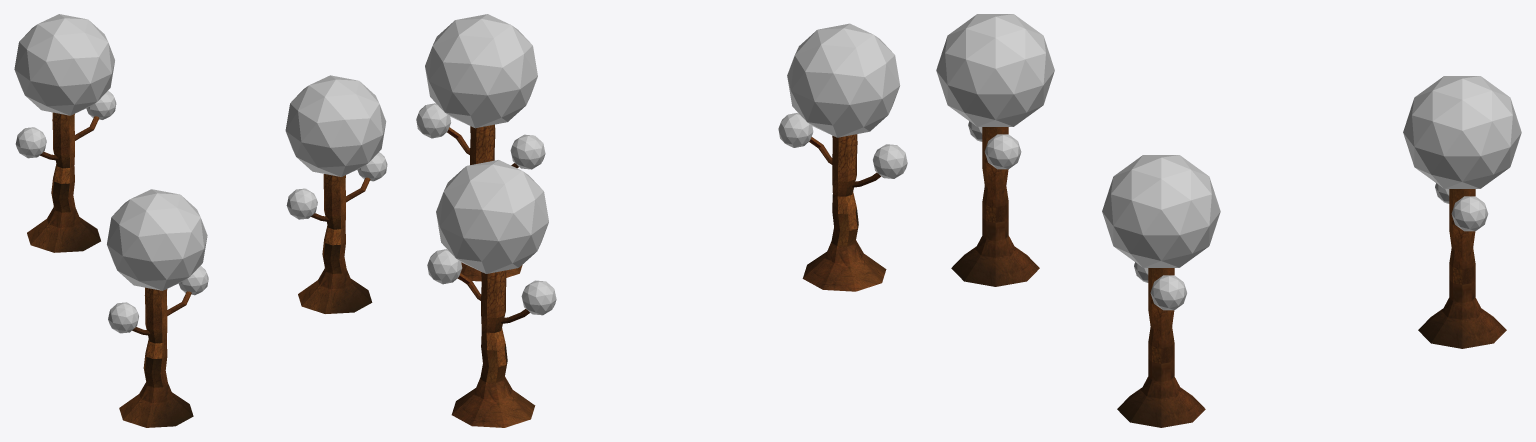
Rendered from Arbol.fbx.
3 renders of one model, left to right at view 1: azimuth 30°, elevation 25°; view 2: azimuth 150°, elevation 25°; view 3: azimuth 270°, elevation 25°, orthographic. The views are drawn at different scales.
Visible parts, largest first — view 1: Tree, Tree001, Tree002; view 2: Tree, Tree001, Tree002; view 3: Tree, Tree001, Tree002.
Boxes of the visible parts, x1,y1,x2,y2 form: Tree: (107,189,208,427); Tree001: (14,14,116,252); Tree002: (285,75,387,313); Tree: (778,23,907,291); Tree001: (427,160,556,427); Tree002: (416,14,545,281); Tree: (936,14,1054,286); Tree001: (1403,76,1521,348); Tree002: (1102,155,1220,427).
Size of the model in its own units: 29.86 by 17.64 by 37.13.
